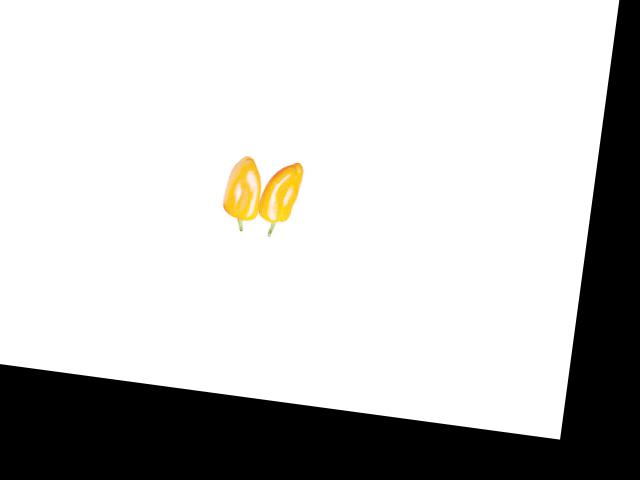bell_pepper: (211, 137, 269, 235)
